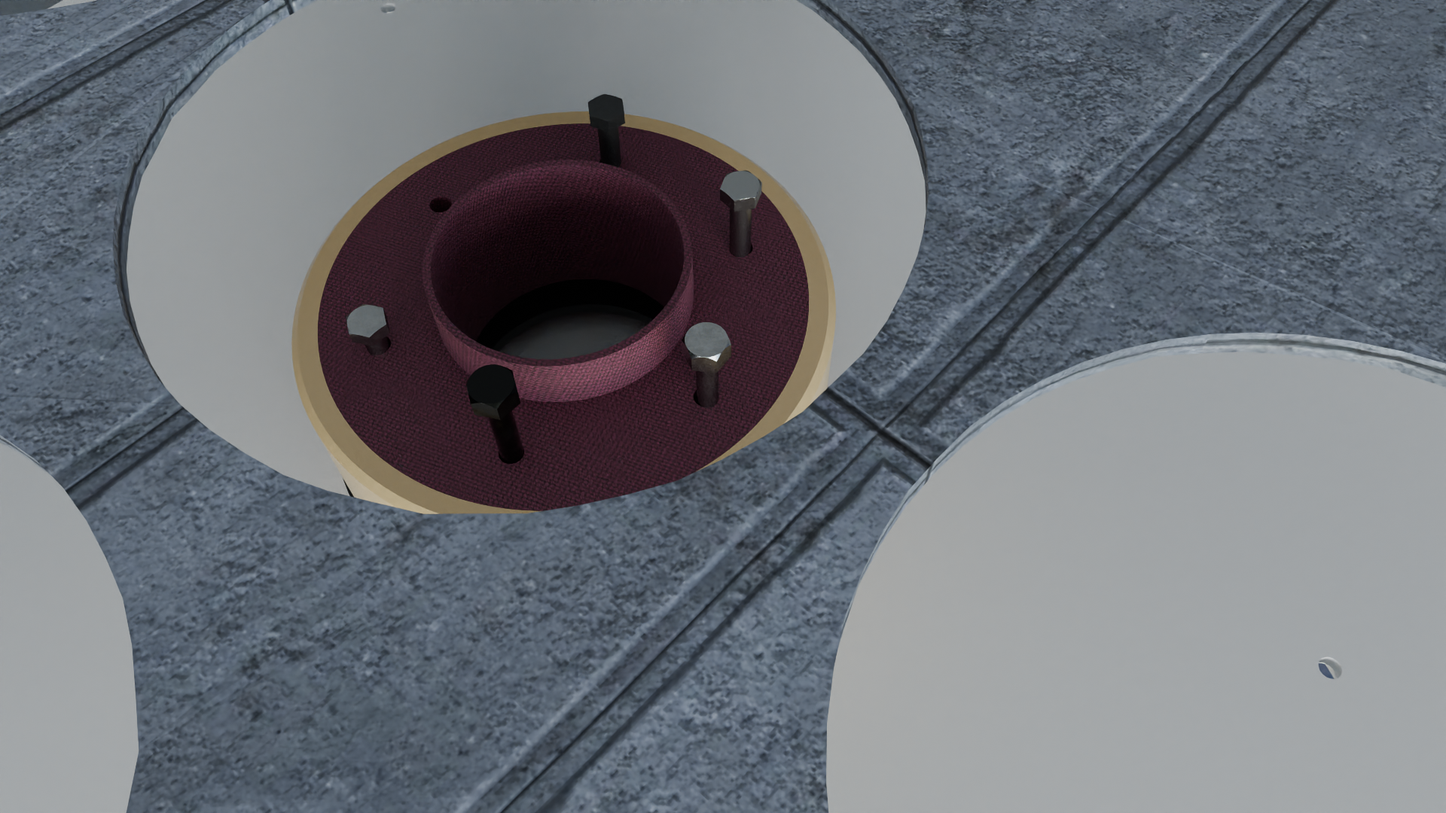bolt: (466, 364, 517, 410), (682, 322, 731, 361), (720, 170, 762, 202), (346, 304, 386, 337), (588, 94, 624, 121)
